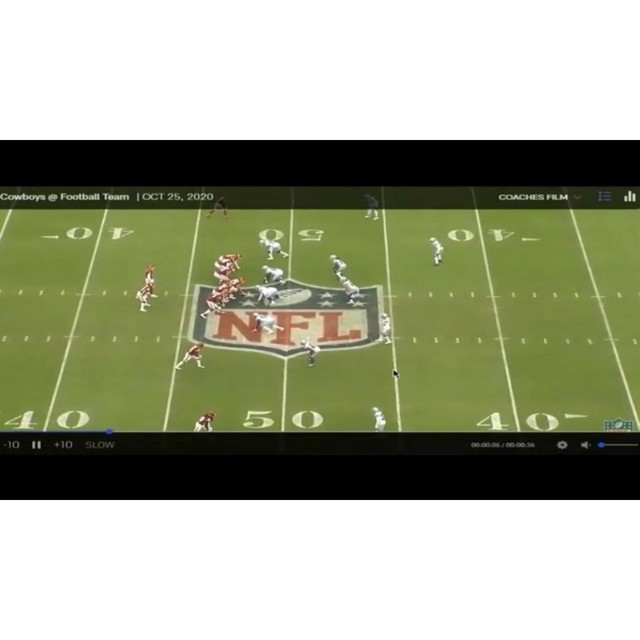american-football-player: (252, 311, 282, 344), (174, 342, 206, 370), (199, 292, 228, 320), (339, 276, 362, 306), (259, 238, 289, 261), (206, 195, 230, 220), (260, 265, 287, 287), (135, 282, 154, 313), (256, 285, 281, 308), (192, 411, 217, 433), (328, 254, 348, 281), (377, 313, 392, 345), (428, 237, 444, 267), (363, 193, 380, 220), (213, 264, 234, 285), (371, 407, 386, 433)
